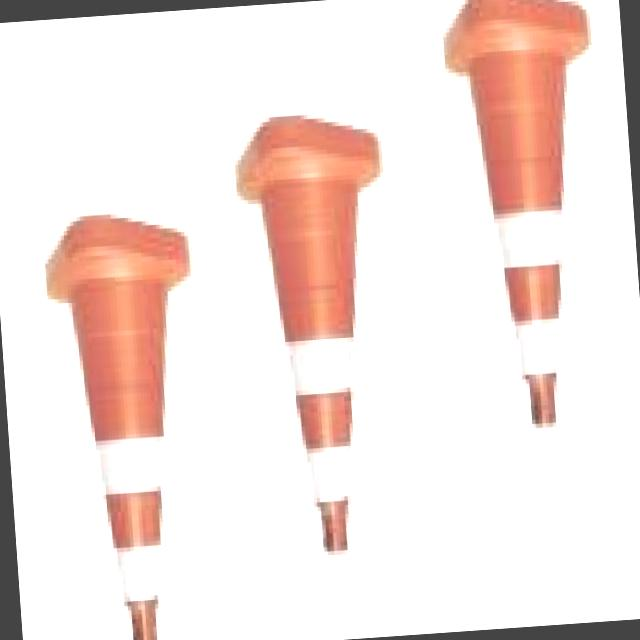cone: (436, 0, 615, 426), (236, 120, 400, 560), (45, 215, 209, 640)
